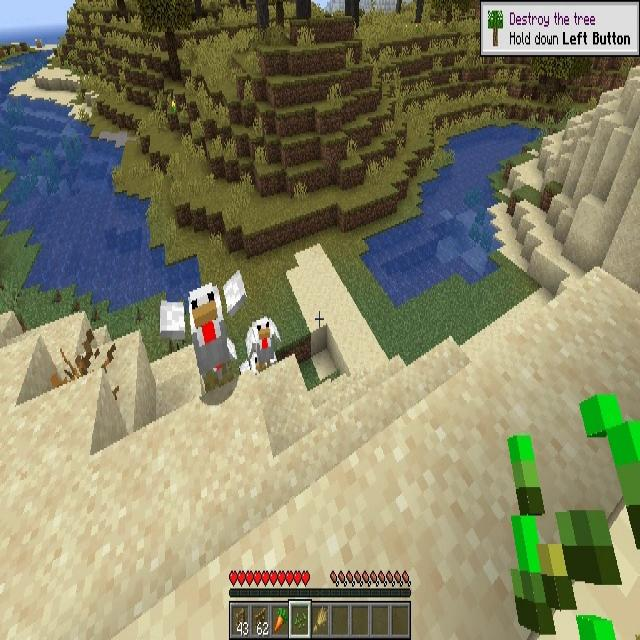duck: (160, 270, 246, 396), (244, 318, 280, 366)
